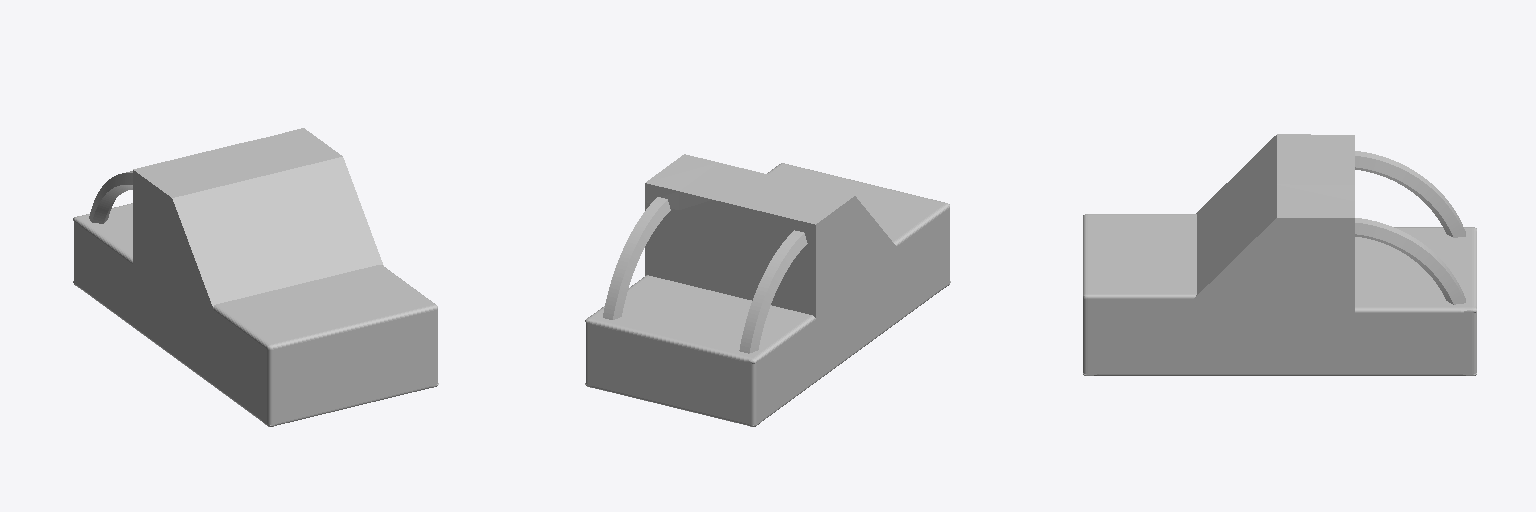
File: vehicle.obj
3 renders of one model, left to right at view 1: azimuth 30°, elevation 25°; view 2: azimuth 150°, elevation 25°; view 3: azimuth 270°, elevation 25°, orthographic.
Parts seen in each view (by area): view 1: Box001; view 2: Box001; view 3: Box001.
Part boxes in pixels (x1,y1,x2,y2): Box001: (73,128,438,426); Box001: (585,154,950,426); Box001: (1083,134,1476,375).
Bounding box in the file's own units: 0.5021 × 0.4485 × 1.